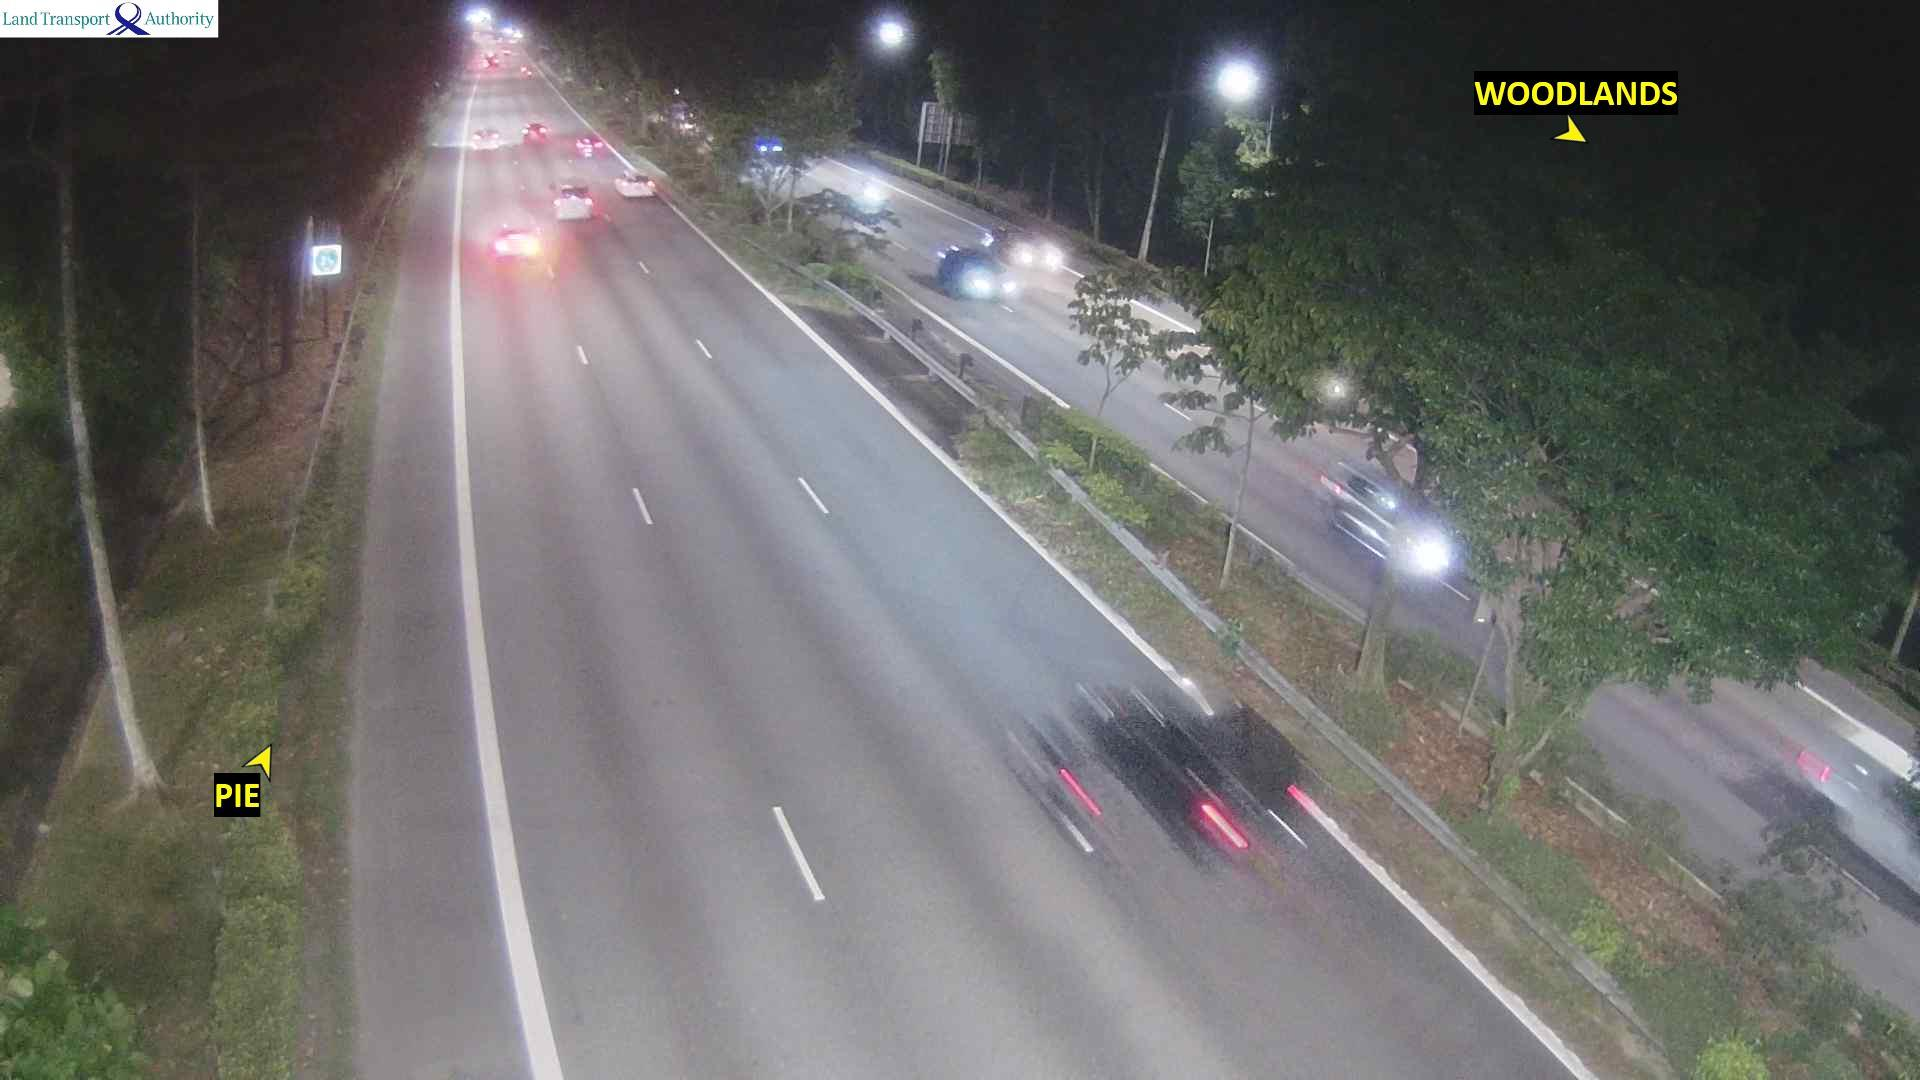incoming: (962, 253, 1016, 304), (1003, 230, 1068, 271)
